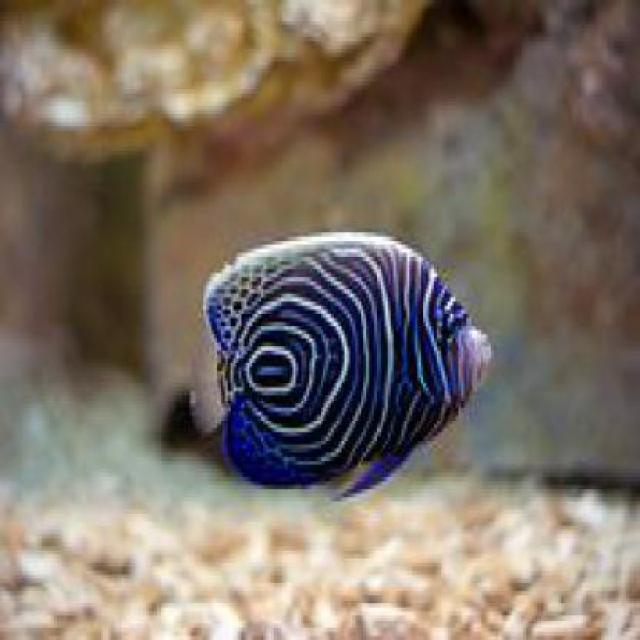AngelFish: (199, 235, 495, 499)
